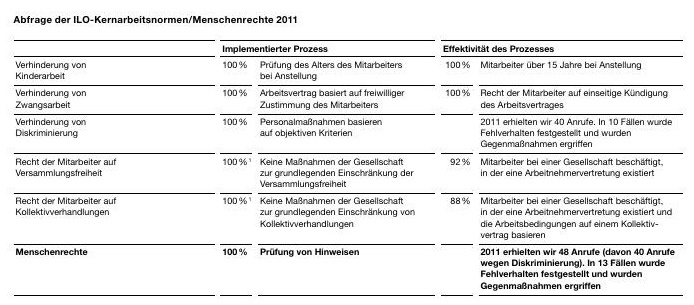table: (0, 0, 694, 305)
